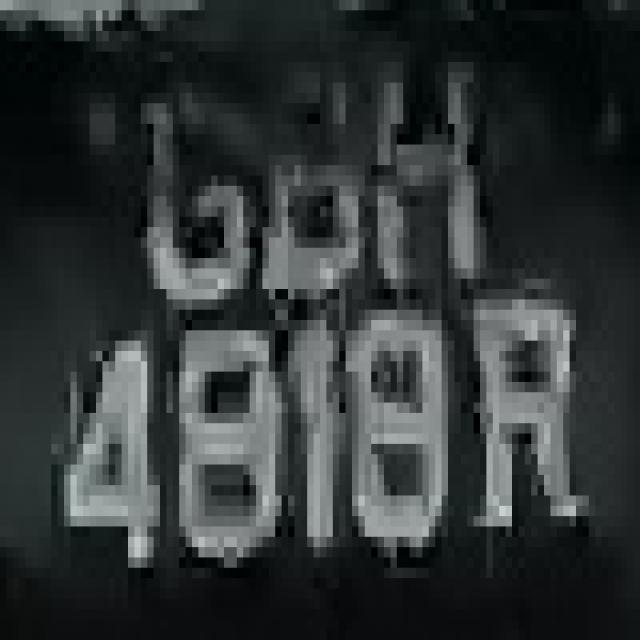1: (275, 289, 352, 557)
4: (38, 289, 141, 578)
8: (160, 300, 282, 588), (346, 310, 480, 557)
B: (243, 31, 365, 320)
G: (121, 42, 236, 330)
H: (346, 21, 486, 310)
R: (461, 279, 582, 557)
